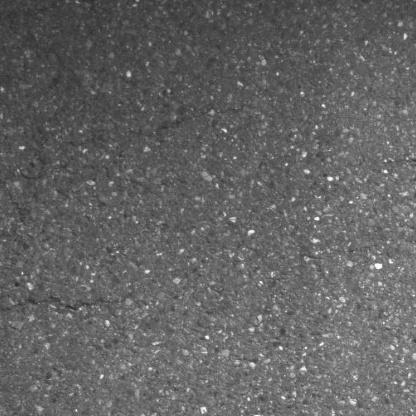Cracks: (0, 293, 126, 316), (408, 117, 416, 203)
